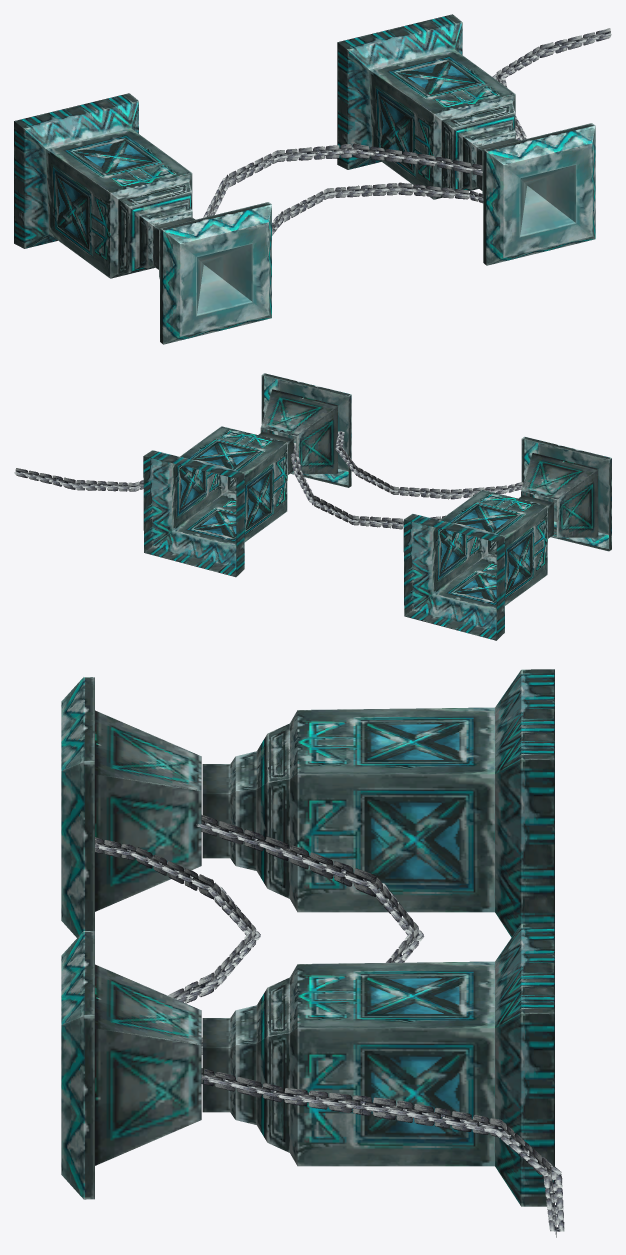
The model's file is zhongbu_fuben_219_ludeng_02e.obj.
3 renders of one model, top to bottom at view 1: azimuth 30°, elevation 25°; view 2: azimuth 150°, elevation 25°; view 3: azimuth 270°, elevation 25°, orthographic. The views are drawn at different scales.
Visible parts, largest first — view 1: zhanchang_fuben_219_ludeng_02_05; view 2: zhanchang_fuben_219_ludeng_02_05; view 3: zhanchang_fuben_219_ludeng_02_05.
Part boxes in pixels (left/top/right/bottom): zhanchang_fuben_219_ludeng_02_05: left=14, top=14, right=611, bottom=344; zhanchang_fuben_219_ludeng_02_05: left=14, top=373, right=611, bottom=640; zhanchang_fuben_219_ludeng_02_05: left=61, top=669, right=564, bottom=1237.
Size of the model in its own units: 169 by 33.06 by 76.42.
2 materials, 2 textured.
